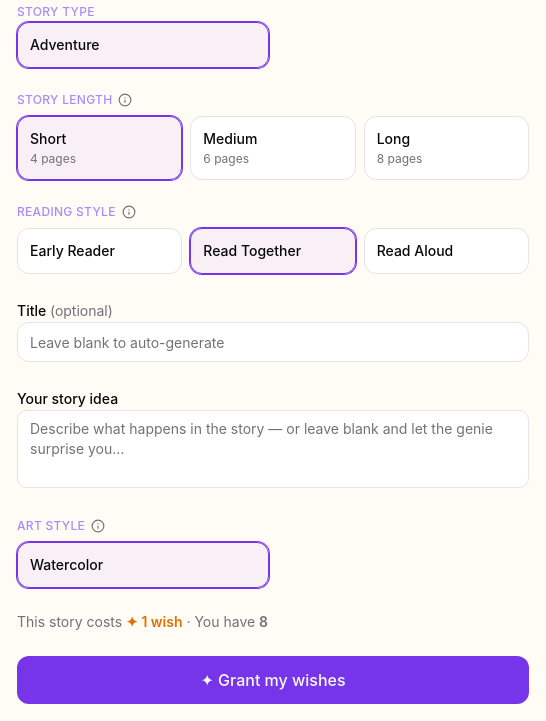
StoryGenerator › shows API errors
(page scrolled)
Step 1. Click the button "✦ Grant my wishes" → (273, 680), box x1=17 y1=656 x2=529 y2=704
(page scrolled)
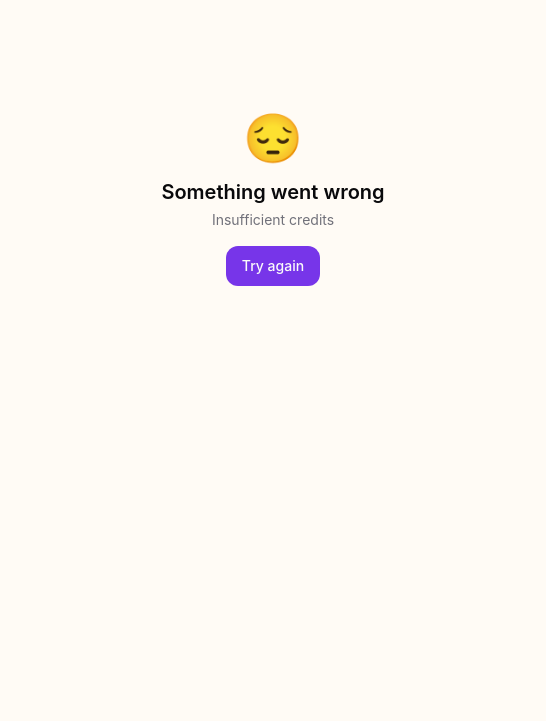
Now the text "Insufficient credits" is shown, box x1=212 y1=211 x2=334 y2=228
